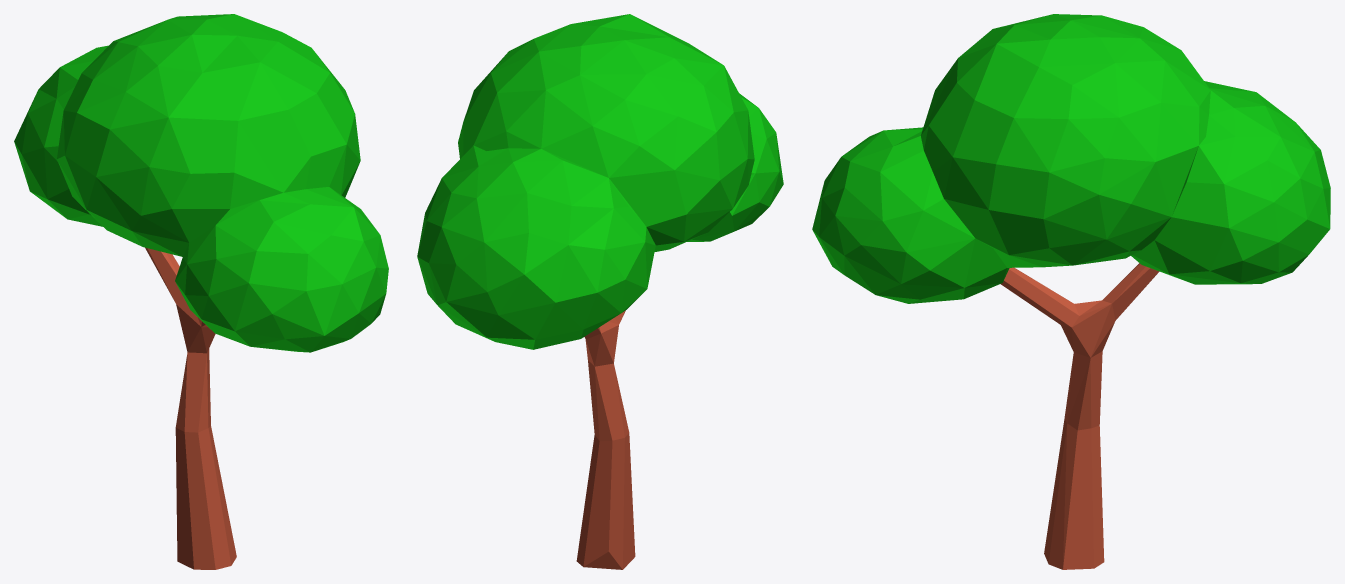
The model's file is tree_A_02.fbx.
3 views of the same model, side by side, from view 1: azimuth 30°, elevation 25°; view 2: azimuth 150°, elevation 25°; view 3: azimuth 270°, elevation 25° (orthographic).
Visible parts, largest first — view 1: tree_A_02; view 2: tree_A_02; view 3: tree_A_02.
Part boxes in pixels (bbox=[...]): tree_A_02: bbox=[14, 14, 388, 569]; tree_A_02: bbox=[417, 14, 783, 569]; tree_A_02: bbox=[812, 14, 1330, 569].
Bounding box in the file's own units: 112 × 219 × 193.
